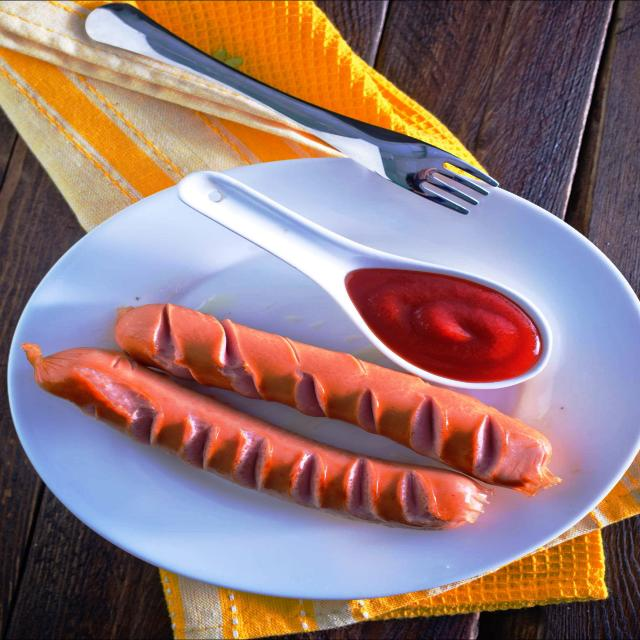ketchup: (334, 261, 555, 388)
